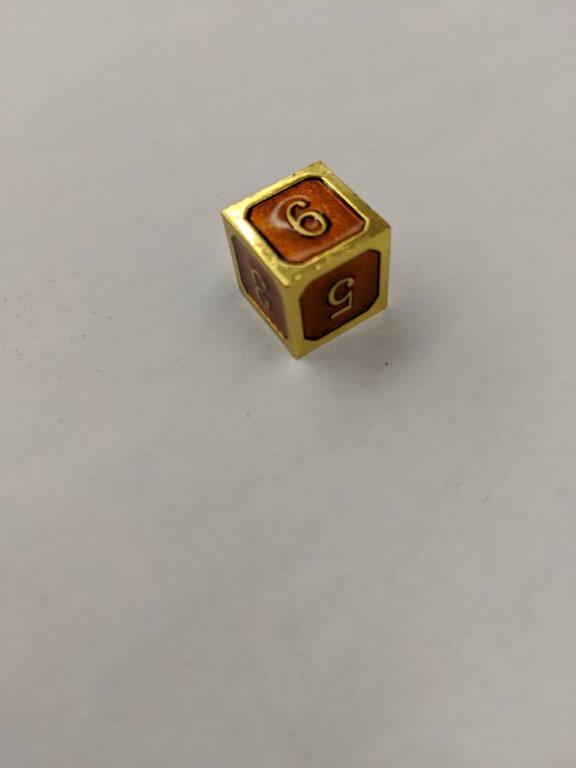d6-6: (218, 156, 394, 367)
